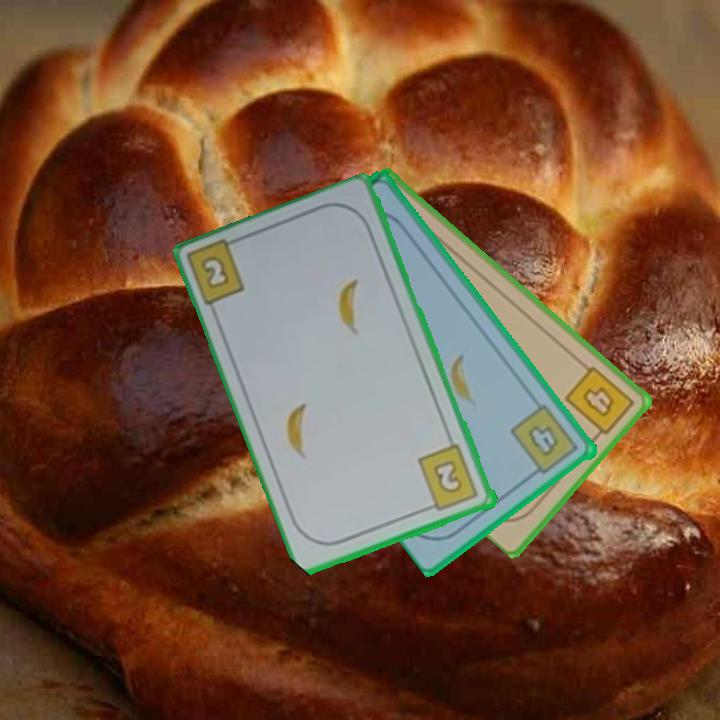2b: (415, 441, 482, 515), (197, 252, 233, 293)
4b: (561, 362, 638, 444), (507, 401, 582, 481)
